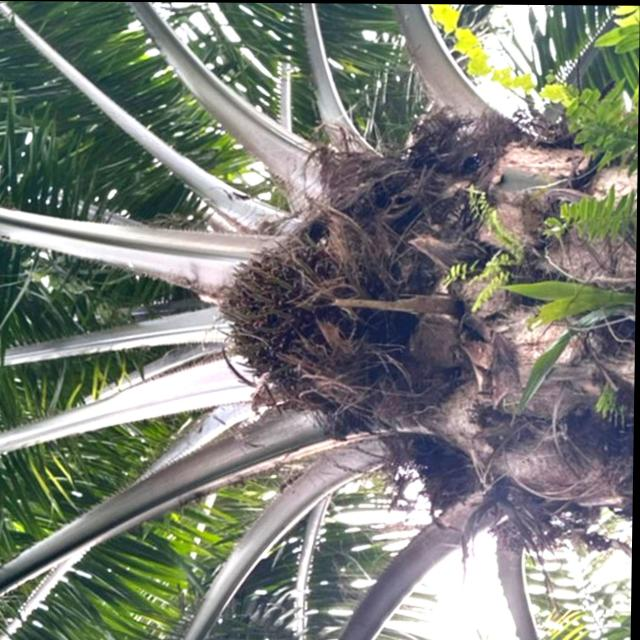ripe: (202, 217, 376, 414)
